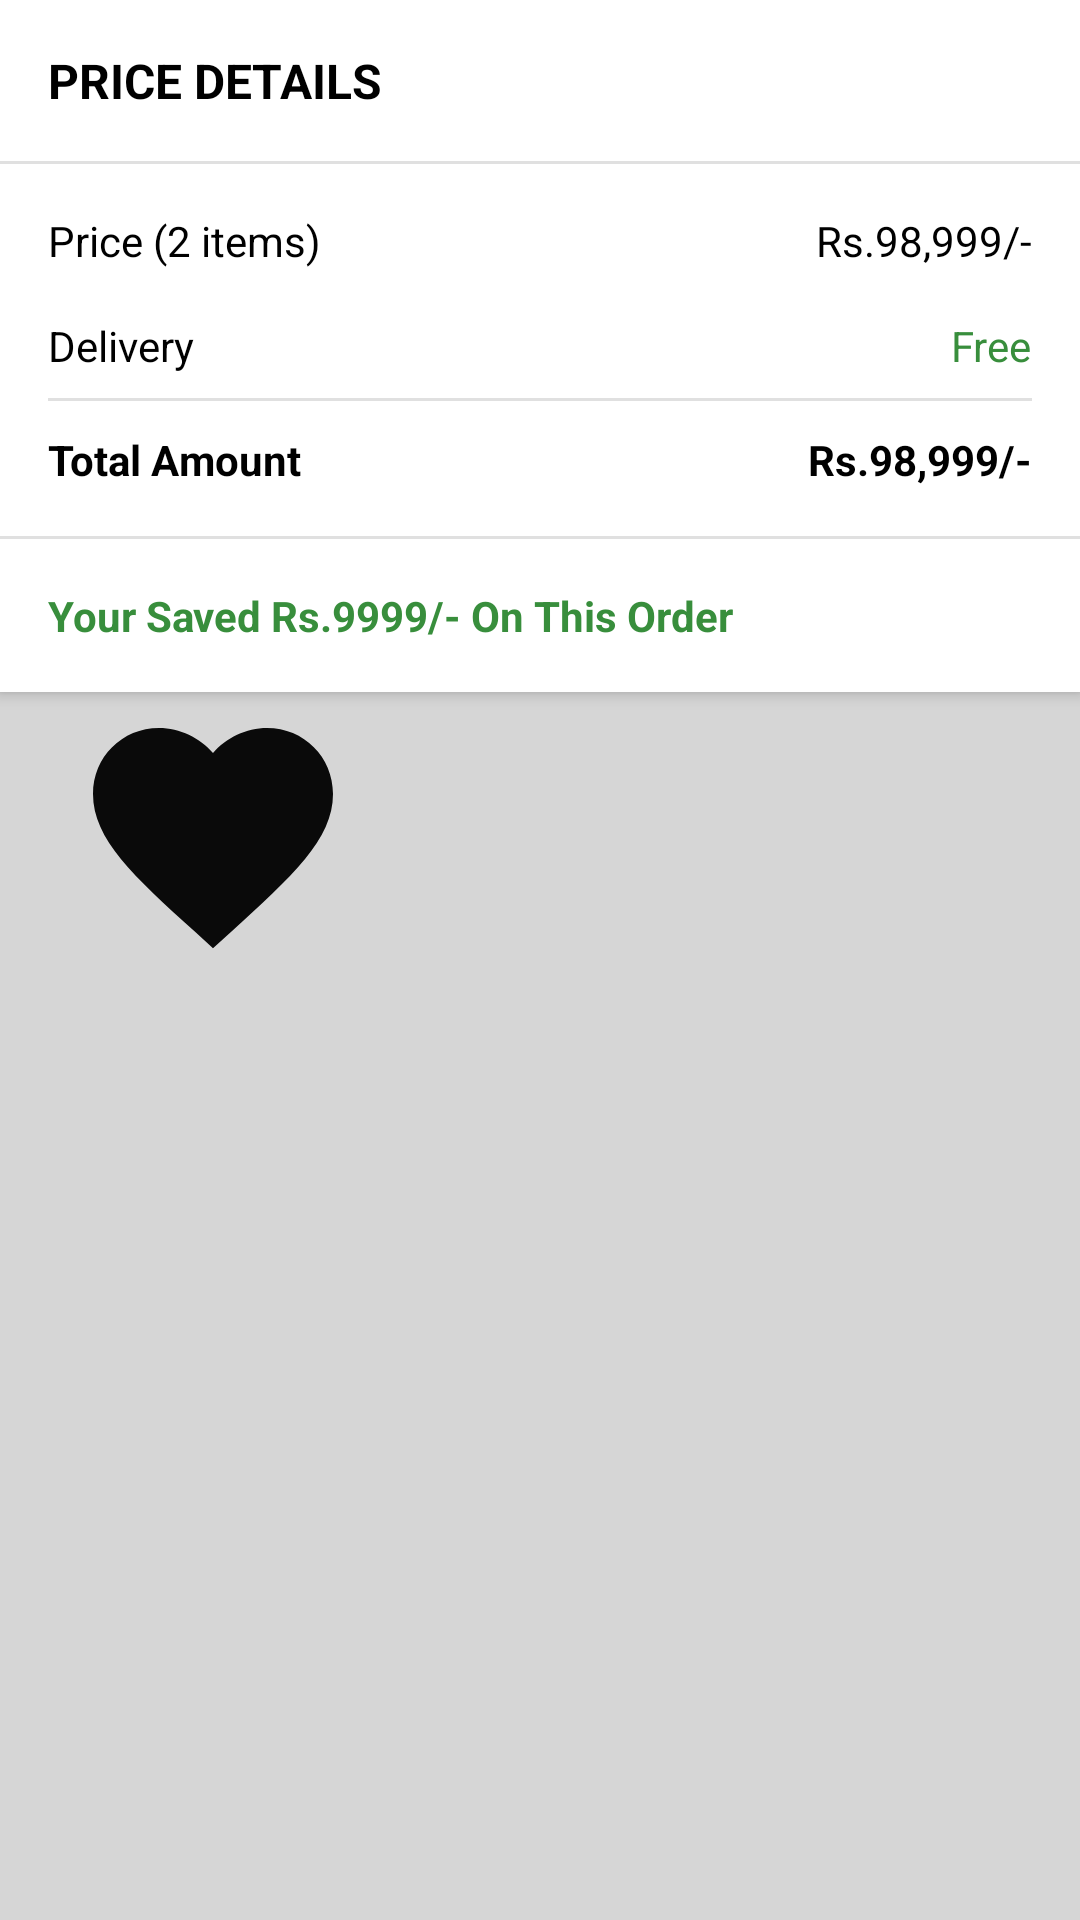

Screen size 1080 × 1920. Icon name, then its box in pixels as Rect(x1, y1, x2, y2):
favorite: Rect(93, 728, 333, 948)
